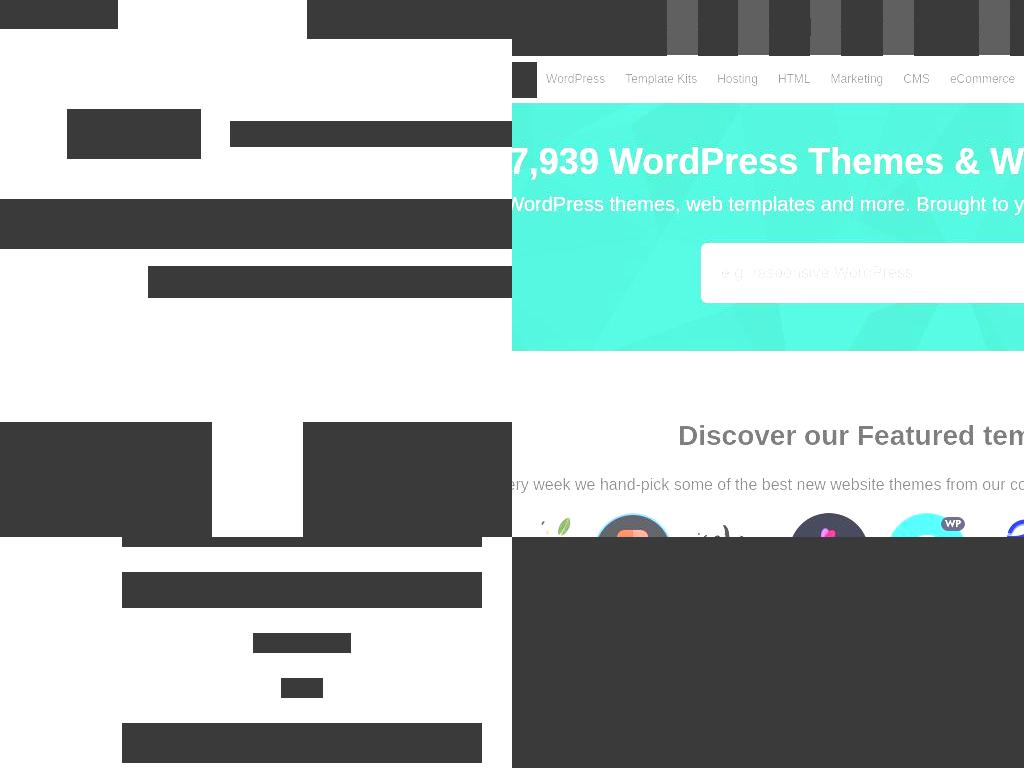button: (0, 422, 212, 537), (303, 422, 512, 537), (122, 723, 482, 763), (122, 572, 482, 608), (512, 0, 667, 56), (307, 0, 448, 39), (914, 0, 979, 56), (0, 0, 118, 29), (615, 62, 708, 98), (939, 62, 1024, 98), (536, 62, 616, 98), (820, 62, 894, 98), (448, 0, 512, 39), (841, 0, 883, 56), (769, 0, 810, 56), (698, 0, 738, 56), (707, 62, 768, 98), (253, 633, 351, 653), (767, 62, 821, 98), (893, 62, 940, 98), (512, 62, 537, 98), (1010, 0, 1024, 56)
field: (701, 243, 1024, 304), (122, 537, 482, 547)
heading: (512, 135, 1024, 190), (0, 199, 512, 249), (512, 415, 1024, 458), (512, 189, 1024, 220), (148, 266, 422, 298), (0, 422, 212, 462), (303, 422, 512, 462), (447, 266, 512, 298), (421, 266, 448, 298)
image: (512, 103, 1024, 352), (524, 599, 1024, 768), (0, 0, 103, 28), (593, 513, 673, 537), (691, 513, 771, 537), (789, 513, 869, 537), (887, 513, 967, 537), (512, 513, 575, 537), (140, 734, 158, 752)
text: (512, 537, 1024, 601), (303, 464, 512, 537), (0, 464, 202, 537), (512, 473, 1024, 498), (230, 121, 512, 147), (67, 109, 201, 159), (512, 18, 667, 36), (246, 733, 367, 753), (914, 18, 979, 36), (281, 678, 323, 698), (769, 18, 811, 36), (841, 18, 883, 36), (698, 18, 737, 36), (1010, 18, 1024, 36)
